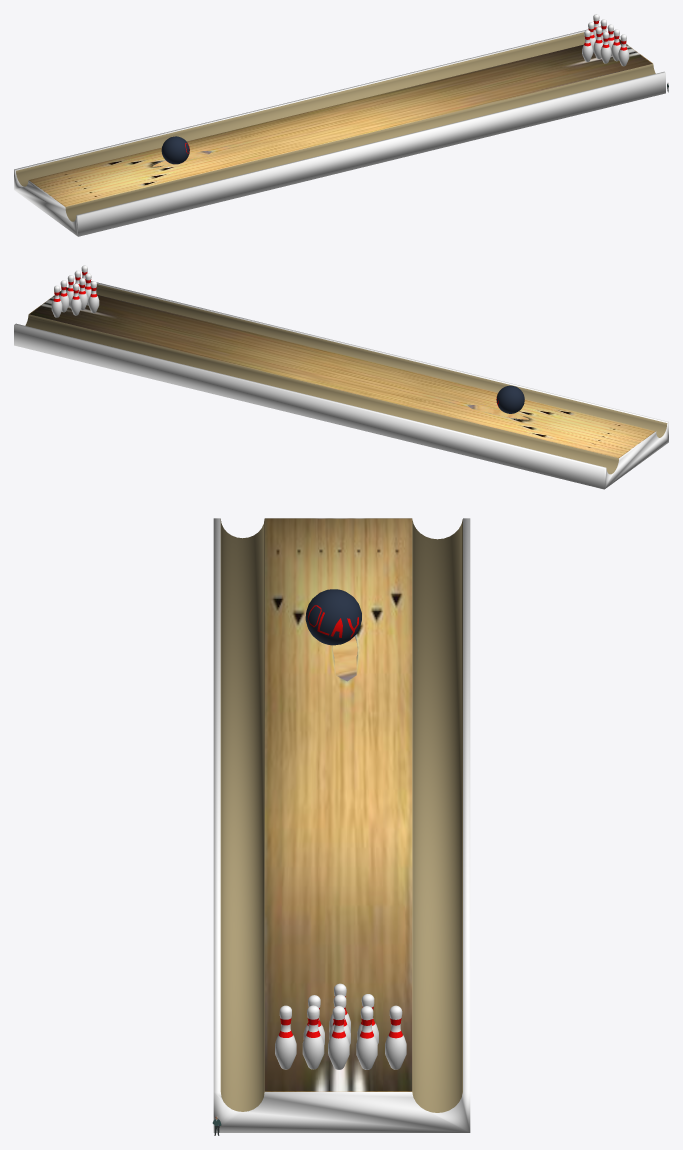
The model's file is bowlingDAE.dae.
3 views of the same model, one above another, from view 1: azimuth 30°, elevation 25°; view 2: azimuth 150°, elevation 25°; view 3: azimuth 270°, elevation 25° (orthographic). The views are drawn at different scales.
Parts seen in each view (by area): view 1: Bowling_lane (×4), Component_2; view 2: Bowling_lane (×4), Component_2; view 3: Bowling_lane (×4), Component_2.
Boxes of the visible parts, box(x1,y1,x2,y2) form: Bowling_lane (×4): box(14, 26, 665, 236); Component_2: box(161, 136, 189, 164); Bowling_lane (×4): box(14, 281, 668, 489); Component_2: box(496, 385, 524, 413); Bowling_lane (×4): box(213, 518, 470, 1132); Component_2: box(305, 589, 361, 645).
Size of the model in its own units: 4241 by 802 by 353.
